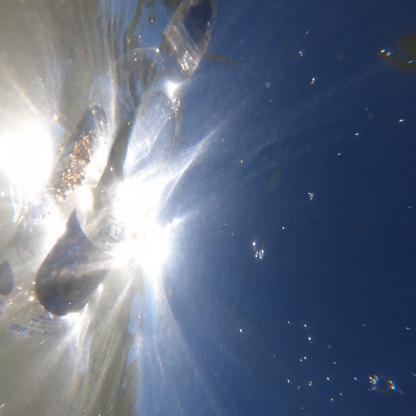Rác: (15, 0, 241, 331)
